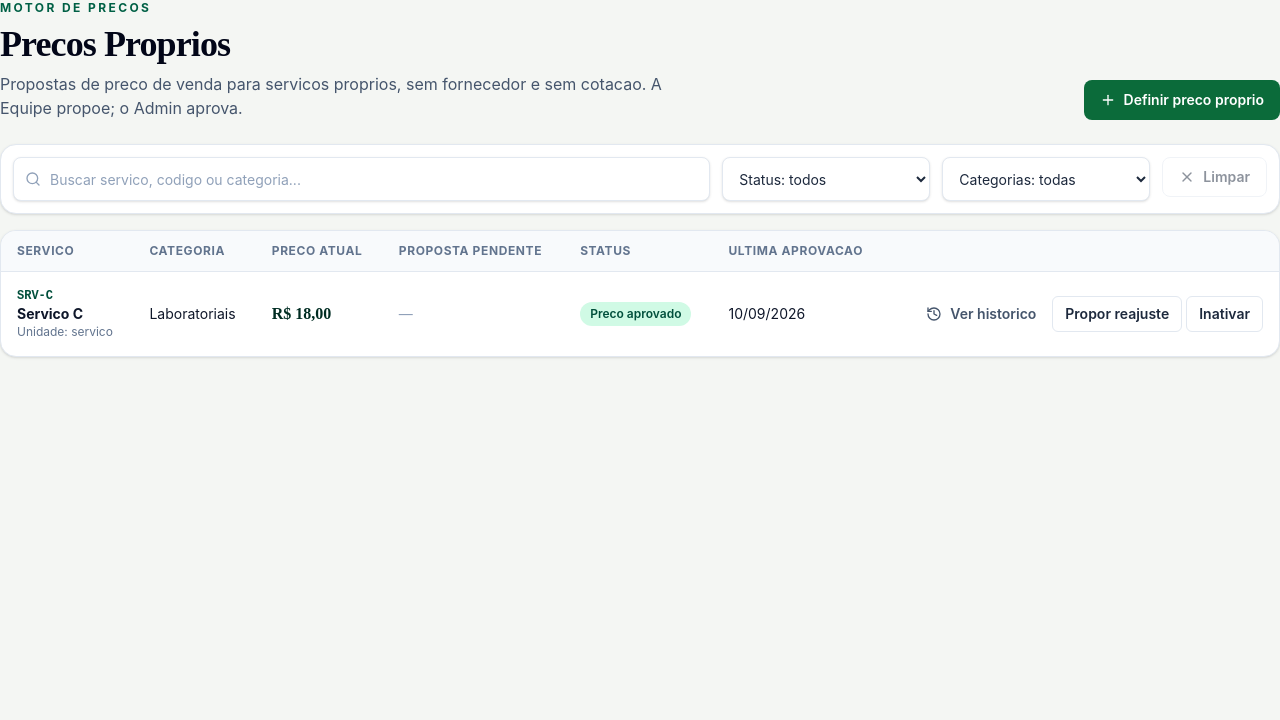
Test: OwnPricesPage › abre o historico de propostas de um servico proprio
Click the button with aria-label "Ver historico de Servico C".
click(981, 314)  # box [914,296,1048,332]
(page scrolled)
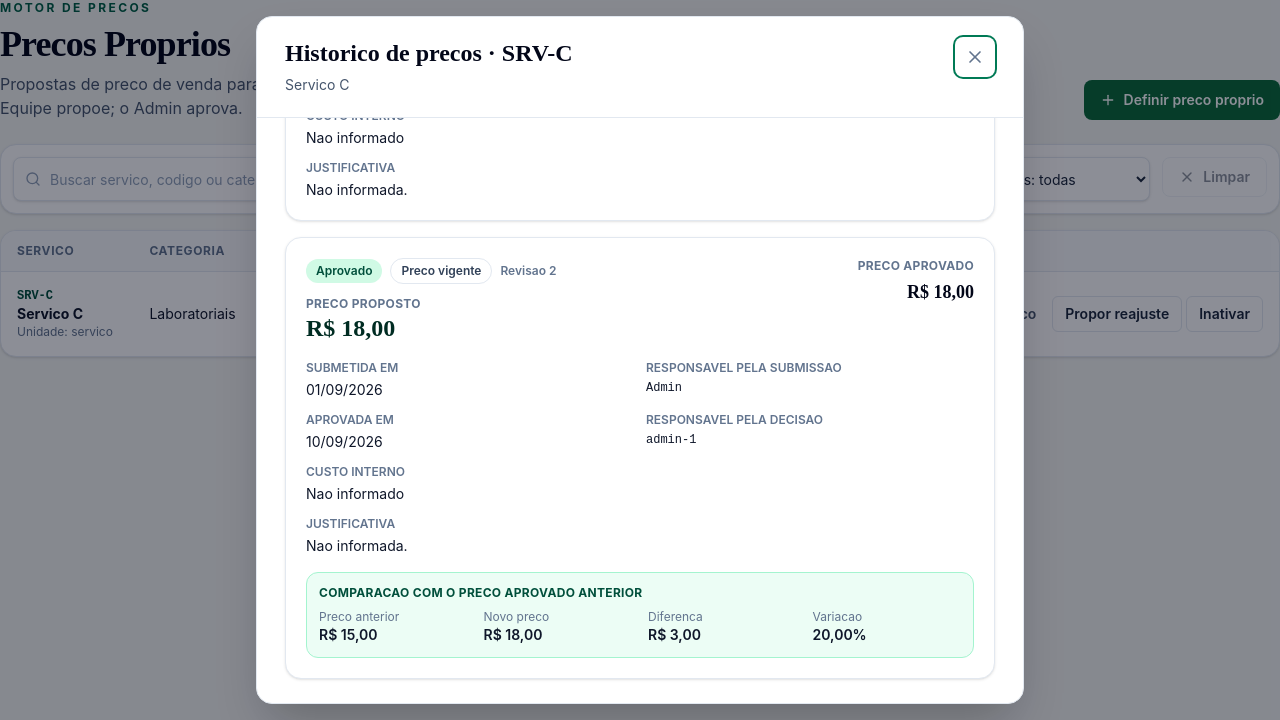
Result: the dialog "Historico de precos · SRV-C" is shown at [256,16,1024,704]
Result: the text "Comparacao com o preco aprovado anterior" is shown at [319,585,642,600]
Result: the text "20,00%" is shown at [812,626,867,643]
